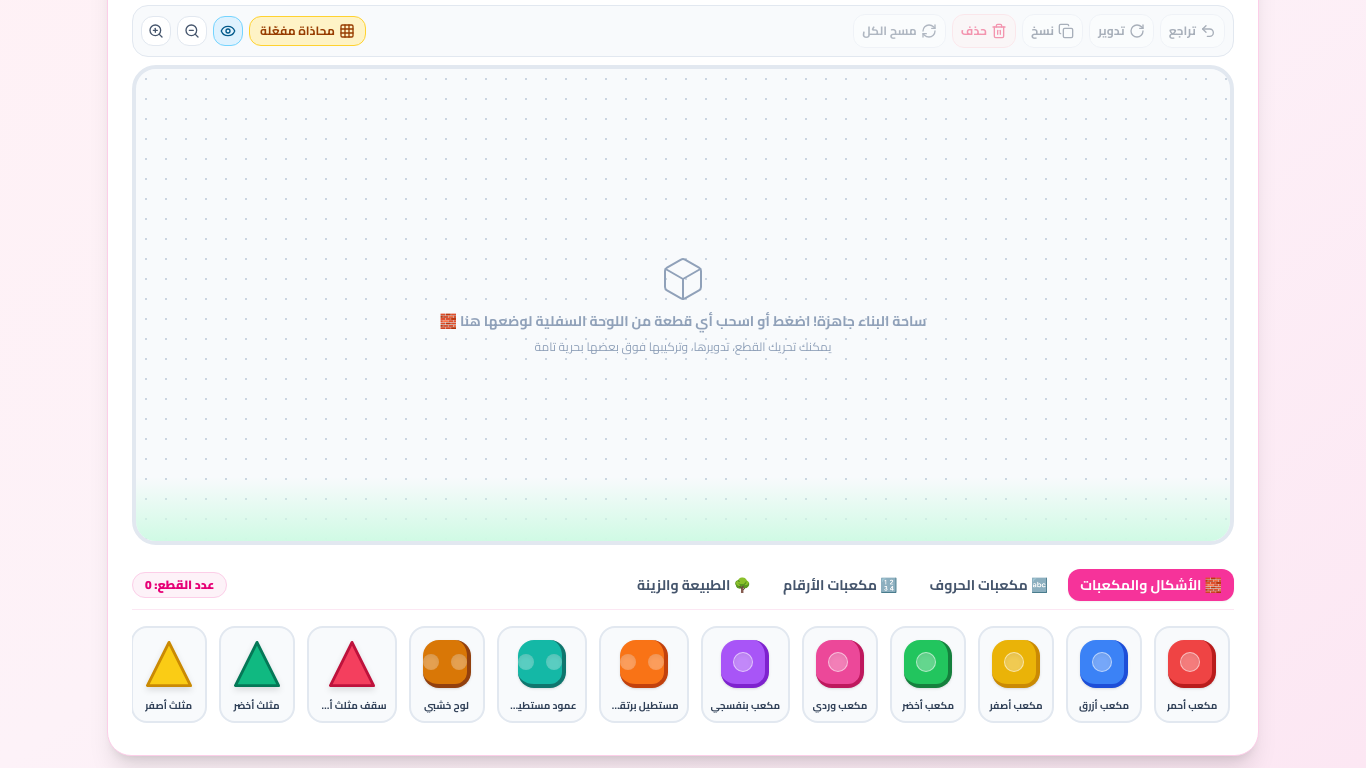
Test: My Little World (عالمي الصغير) Game Integration › places a block on the canvas when clicked from palette
(page scrolled)
// Click on Red Cube in palette
Click the element titled "مكعب أحمر". click: click(1192, 674)
box: top-left (1154, 626), bottom-right (1230, 723)
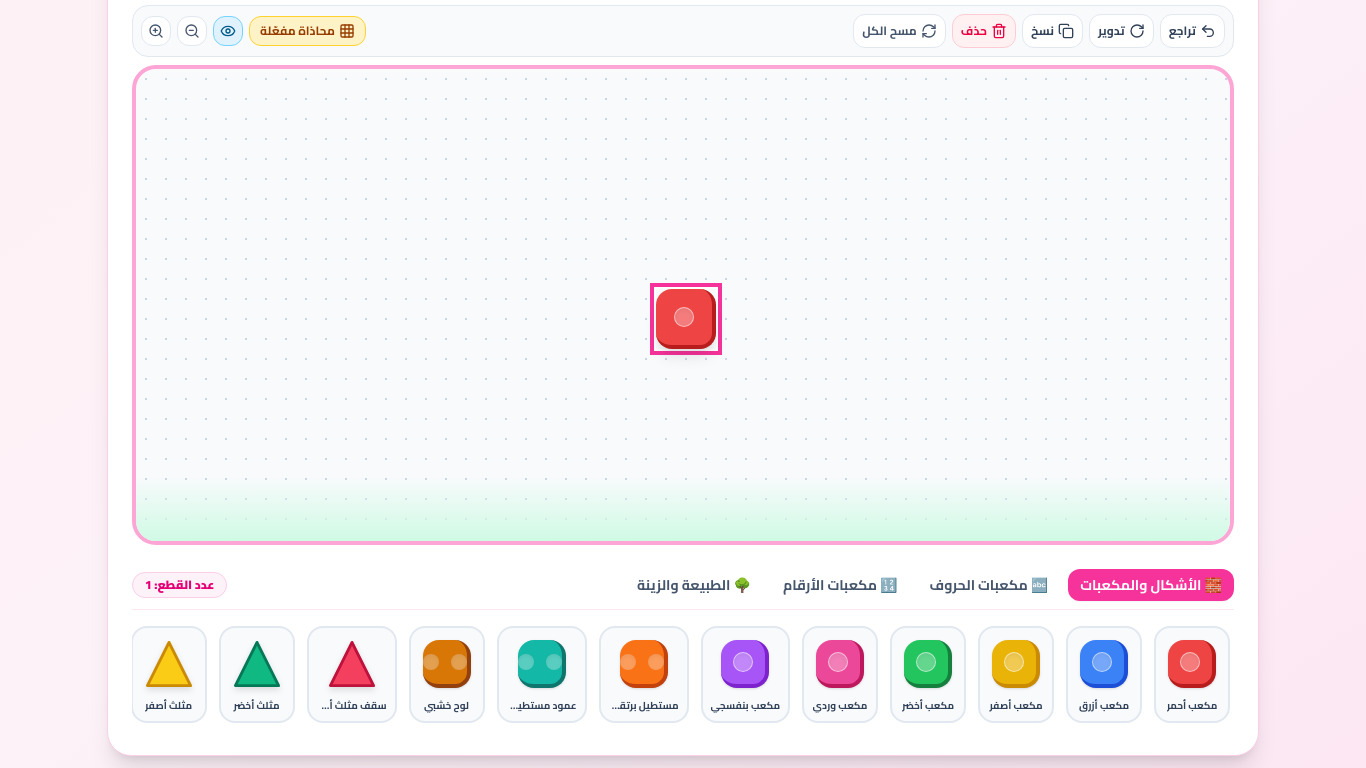
Result: the text "عدد القطع: 1" is shown at top-left (132, 572), bottom-right (227, 598)
// Undo should now be enabled and clicking it returns to 0
Click the button titled "تراجع عن آخر حركة". click: click(1192, 31)
box: top-left (1160, 14), bottom-right (1225, 48)
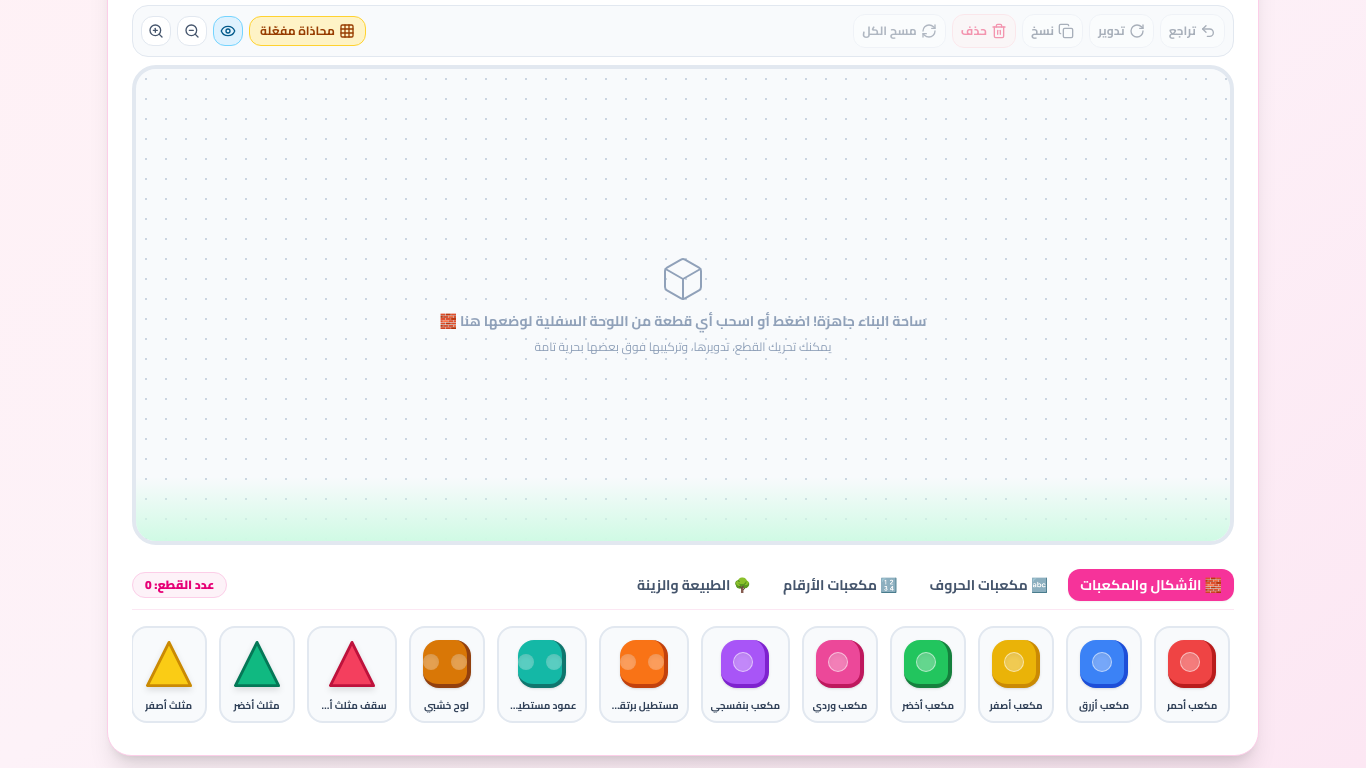
Result: the text "عدد القطع: 0" is shown at top-left (132, 572), bottom-right (227, 598)
